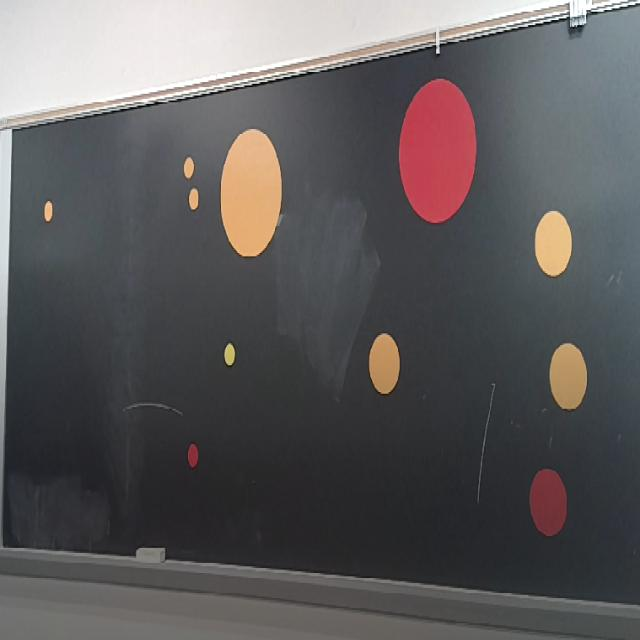Orange: (219, 128, 282, 255), (534, 210, 572, 280), (550, 343, 588, 411), (368, 331, 401, 394), (188, 188, 199, 209), (184, 159, 194, 179), (44, 200, 53, 222)
Red: (399, 79, 477, 223), (530, 468, 567, 538), (188, 443, 198, 468)
Yellow: (223, 342, 236, 366)
